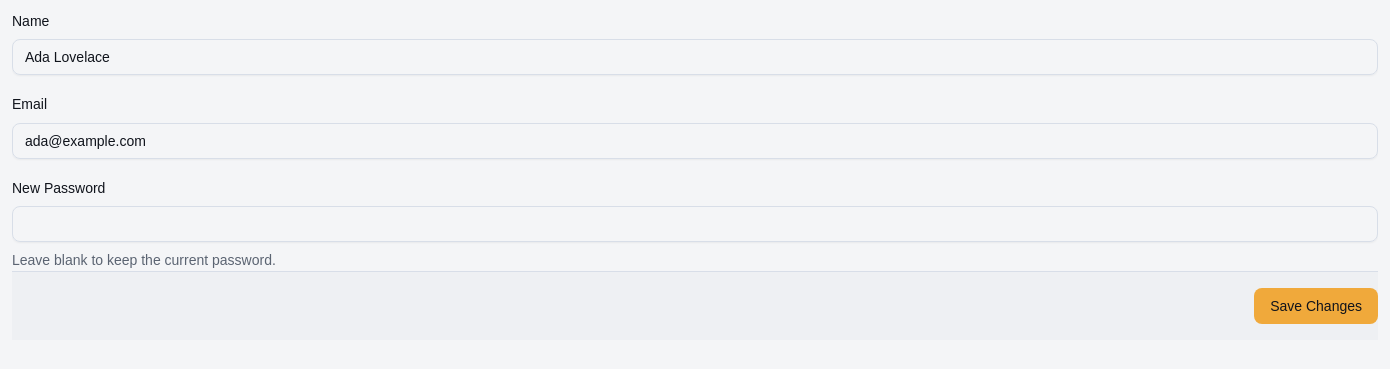
Test: EditUserForm › shows a validation error and blocks submission when the name is too short
The image size is (1390, 369).
Replace the text in the field labelled "Name" with "Al" at (695, 57), box x1=12 y1=39 x2=1378 y2=75
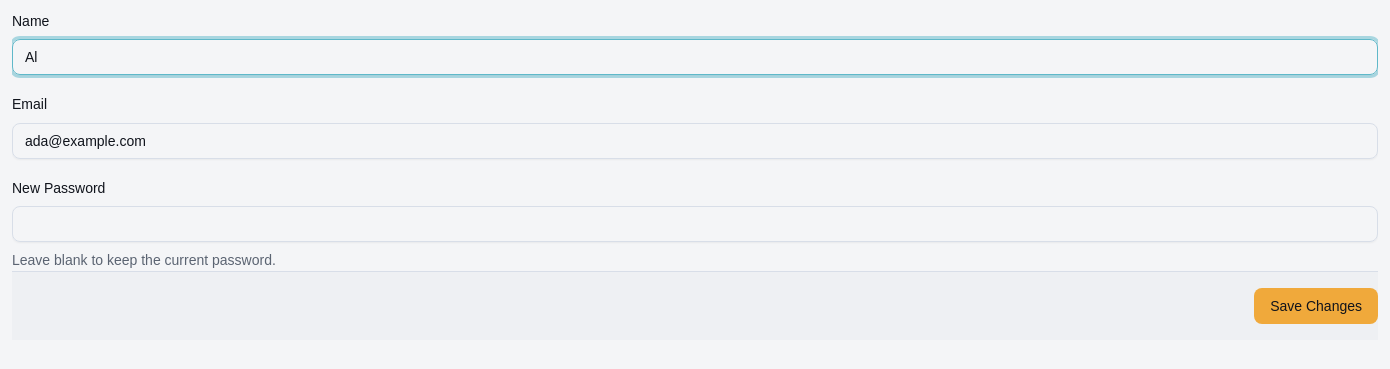
Click the button "Save Changes" at (1316, 306), box x1=1254 y1=288 x2=1378 y2=324
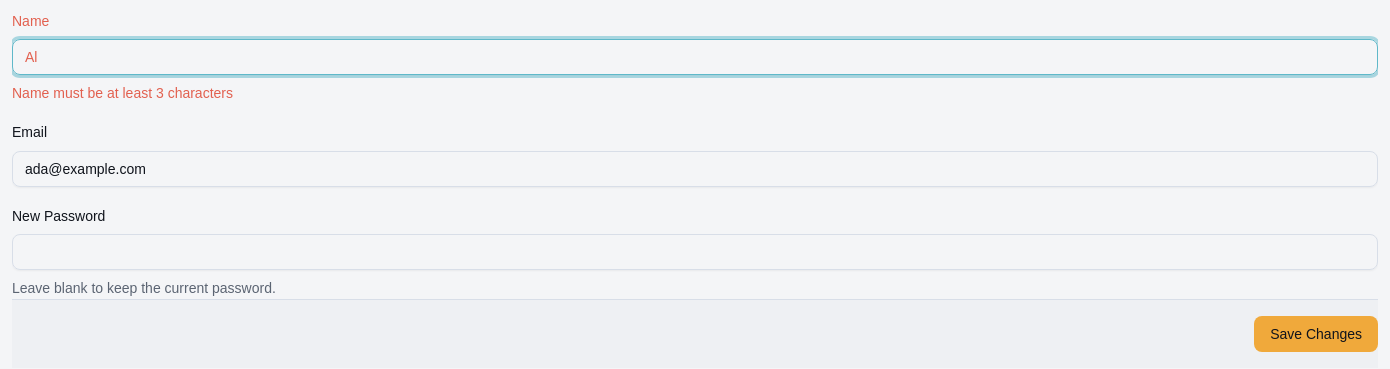
Expected: the text "Name must be at least 3 characters" is shown, x1=12 y1=85 x2=233 y2=101
